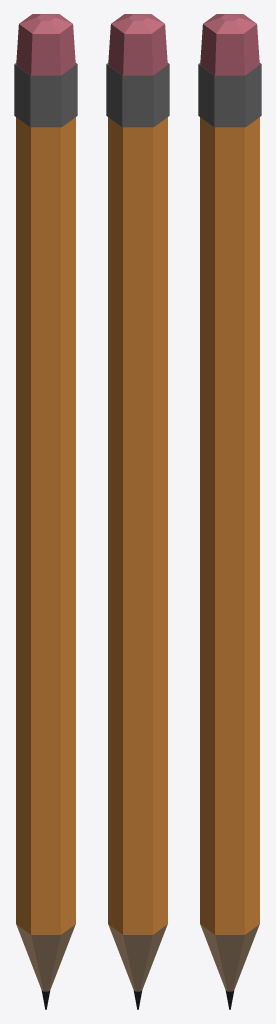
Rendered from Pencil.fbx.
3 views of the same model, side by side, from view 1: azimuth 30°, elevation 25°; view 2: azimuth 150°, elevation 25°; view 3: azimuth 330°, elevation 25° (orthographic).
Parts seen in each view (by area): view 1: Cylinder; view 2: Cylinder; view 3: Cylinder.
Boxes of the visible parts, x1,y1,x2,y2 form: Cylinder: (14, 14, 77, 1009); Cylinder: (106, 14, 169, 1009); Cylinder: (198, 14, 261, 1009).
Size of the model in its own units: 42.5 by 849 by 49.08.
